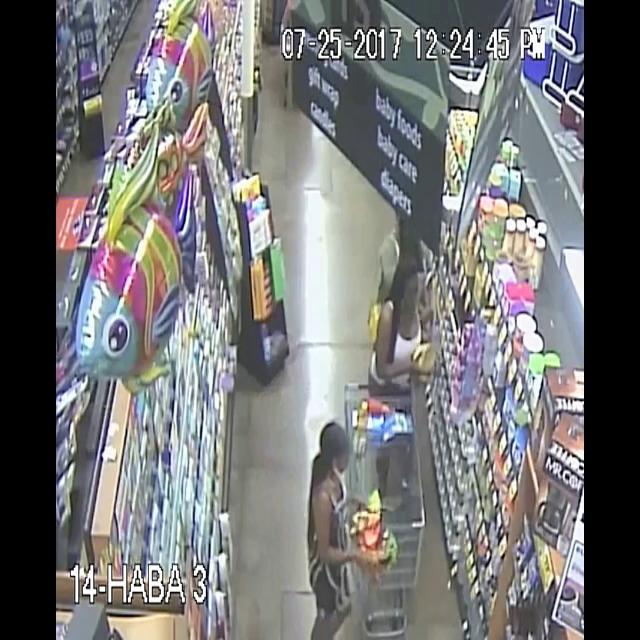Product: (408, 338, 444, 381)
normal: (298, 420, 356, 640)
shoplifting: (378, 210, 482, 428)
